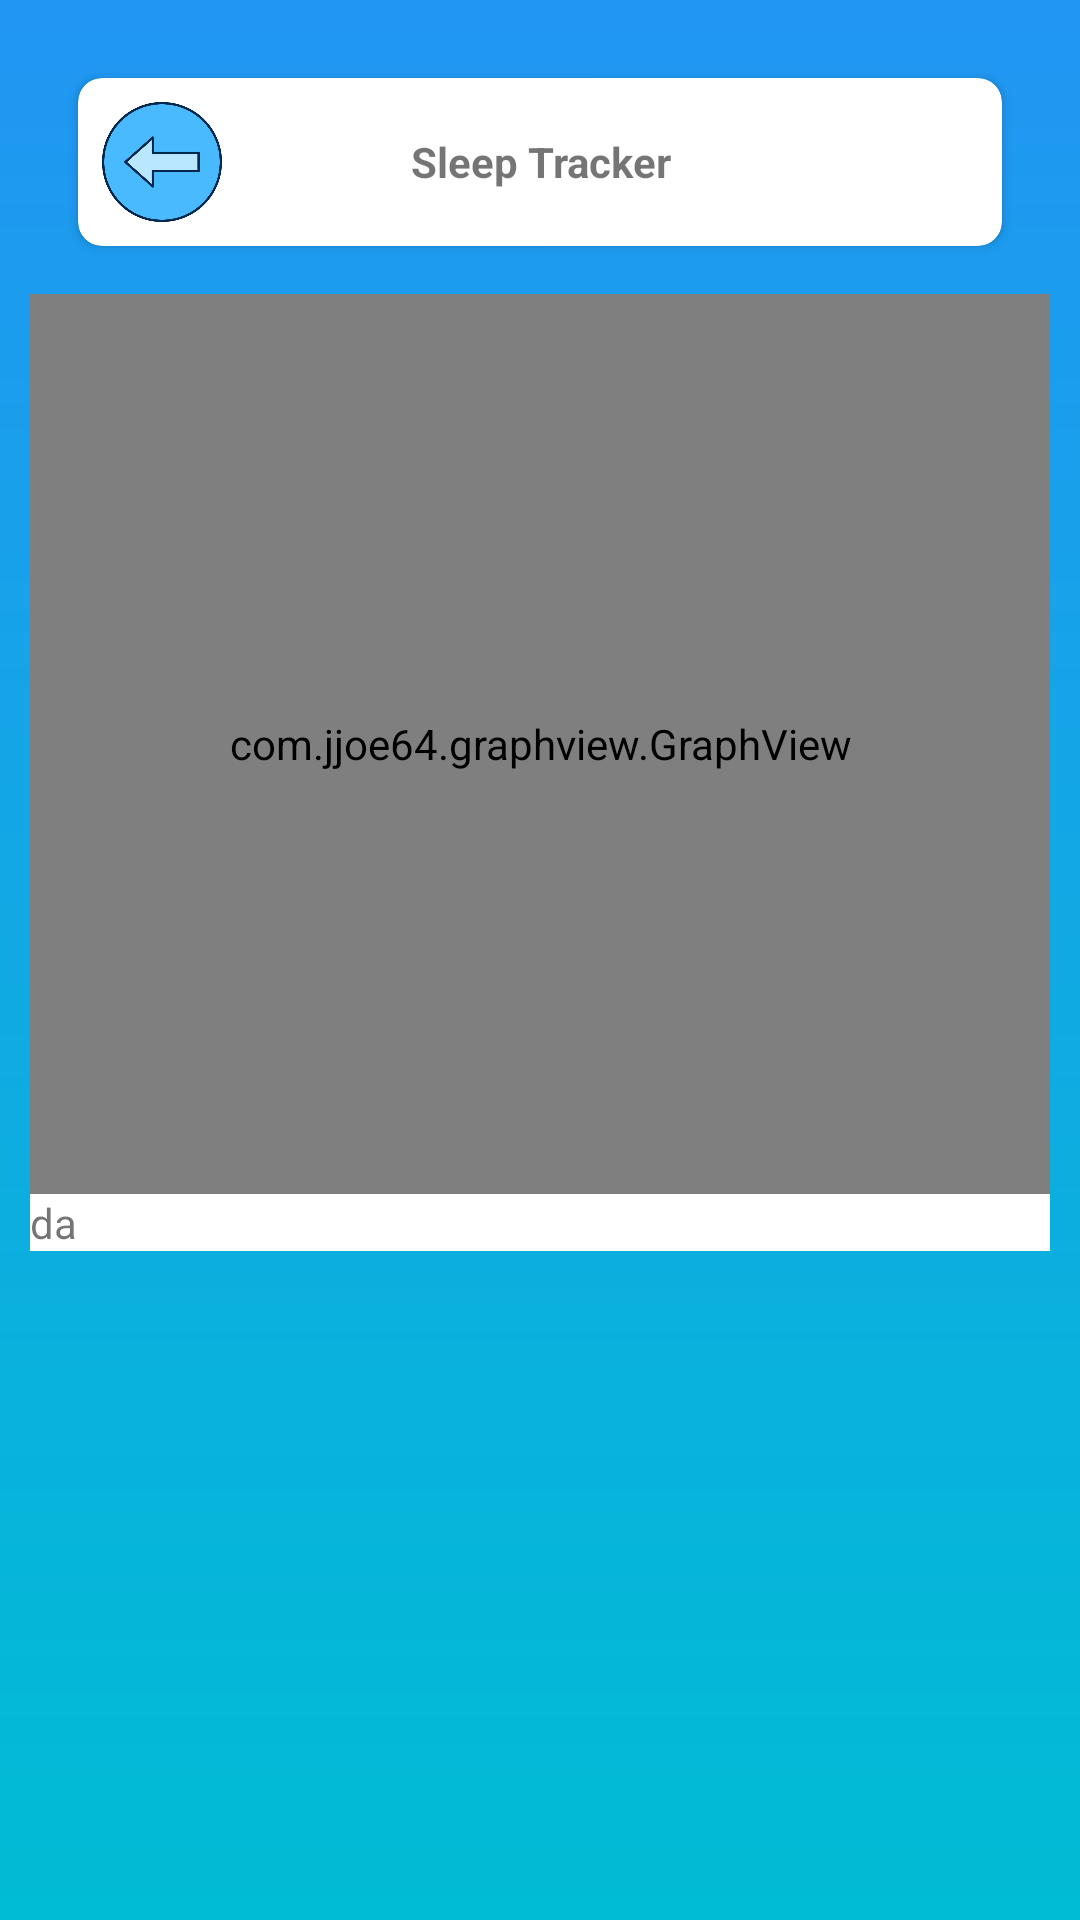

Named icons in this screenshot (1080px×1920px) and their centers, [x,y]:
left arrow: [162,162]
